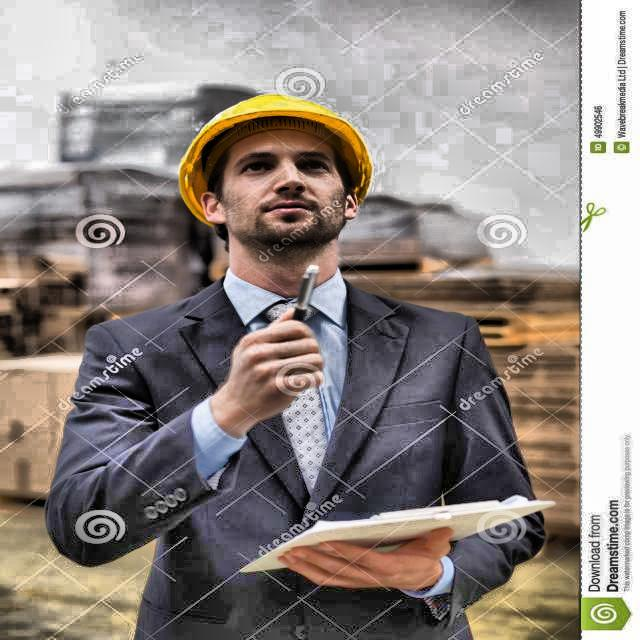person: (50, 83, 546, 640)
